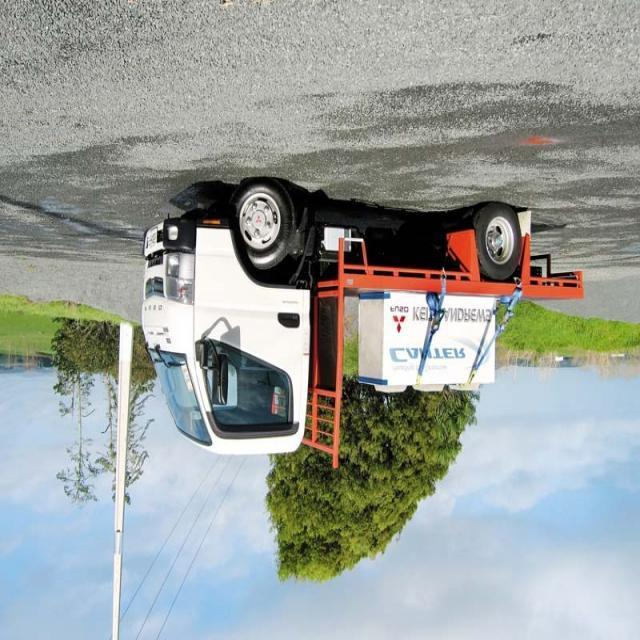truck: (137, 176, 584, 475)
